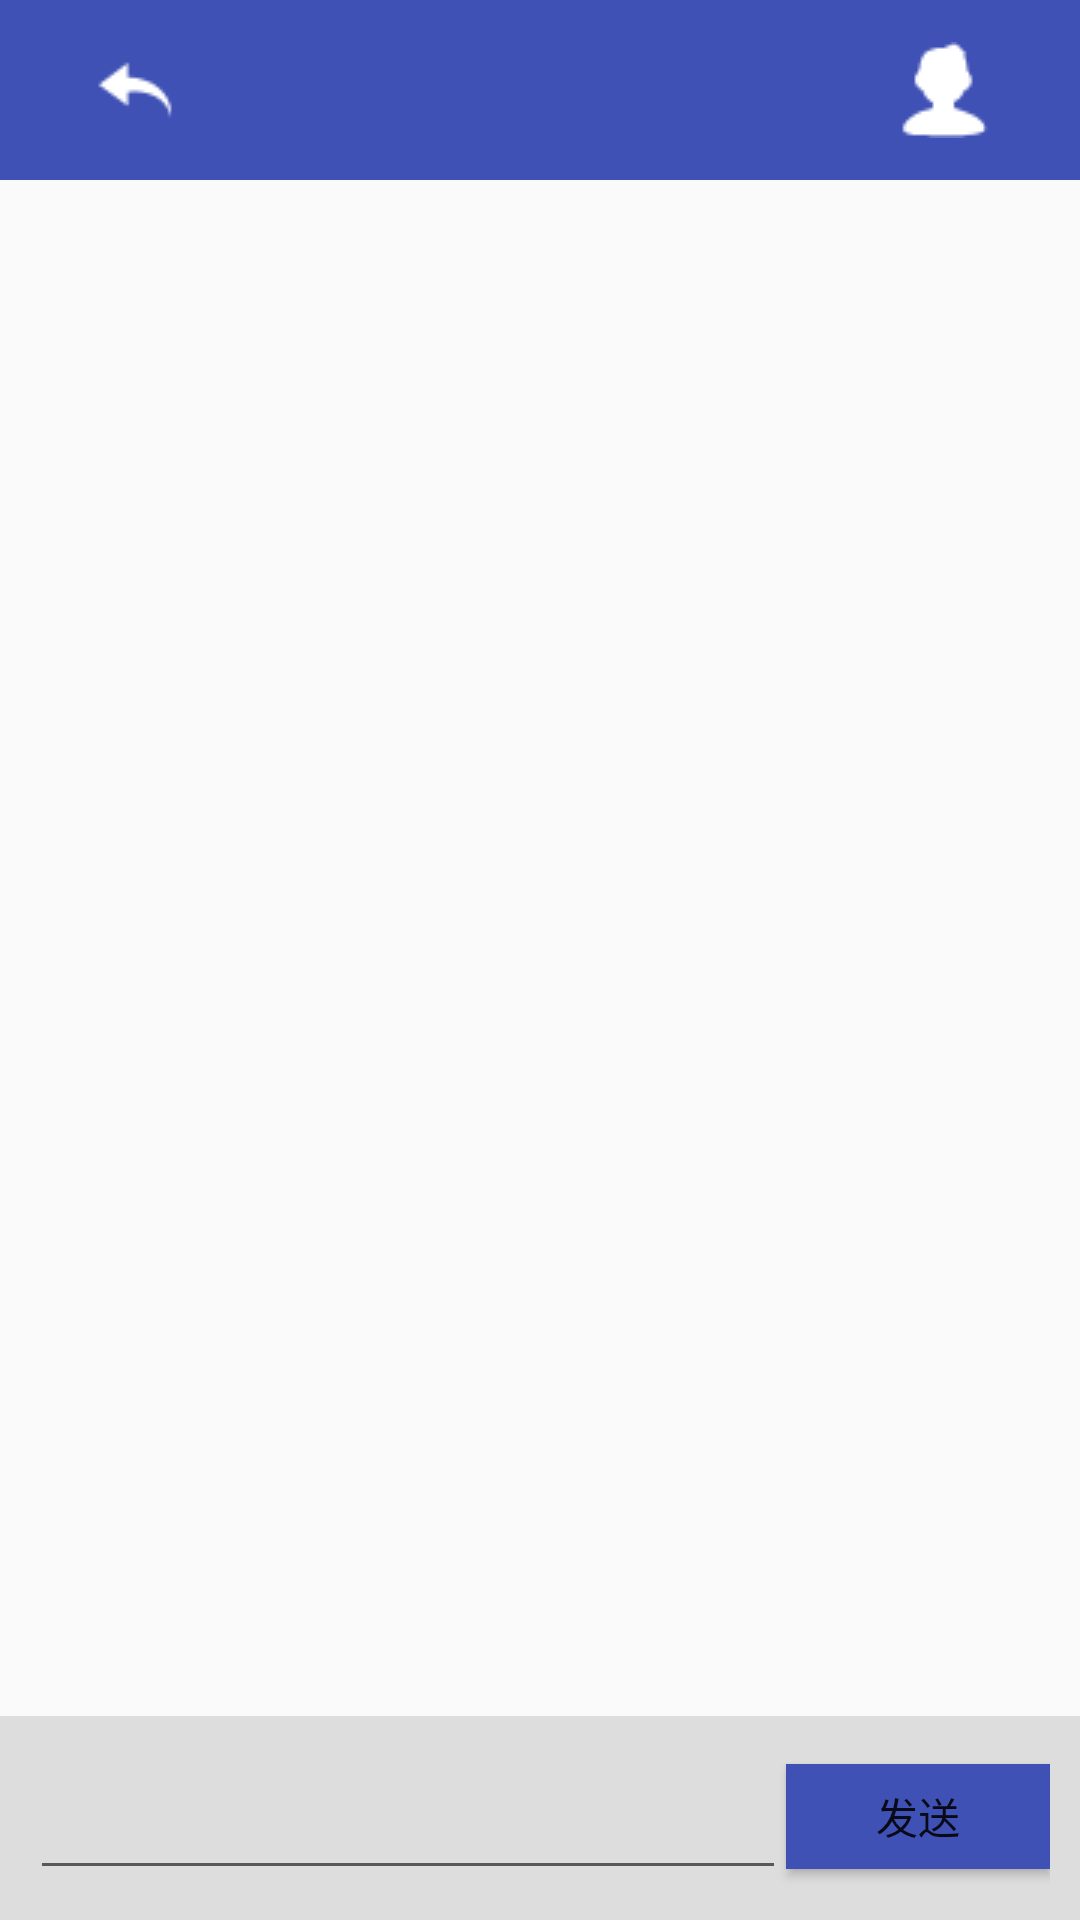

Locate icon controls on the screen. Image size 1080px x 1920px, boxes as (x1, y1, x2, y2).
back: (98, 62, 172, 116)
